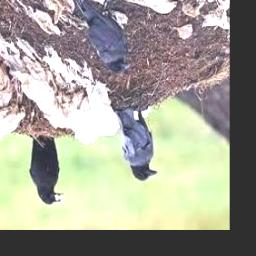Crow: (74, 0, 131, 74), (115, 108, 159, 182), (30, 137, 64, 205)
